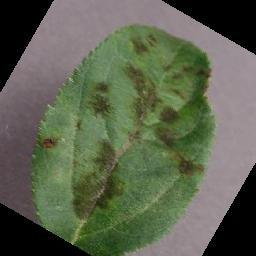apple healthy: (28, 22, 217, 255)
